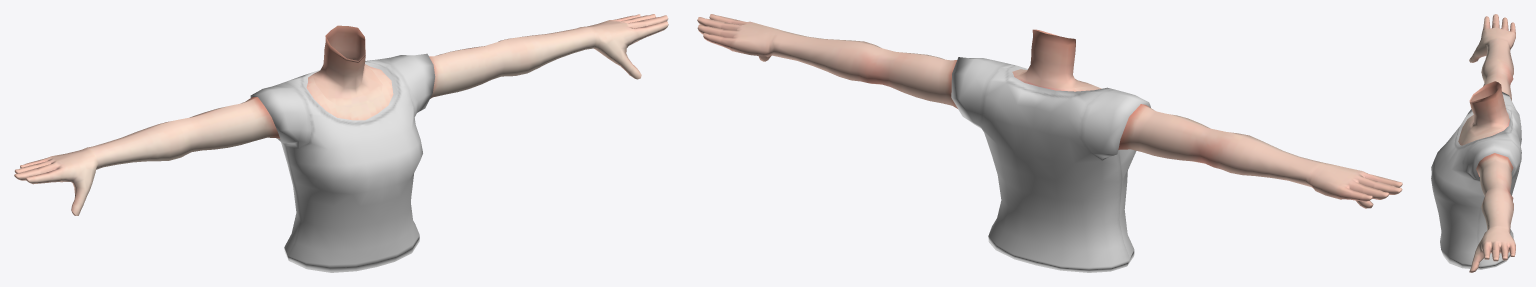
The model's file is tr0790_00_upb01.gltf.
3 renders of one model, left to right at view 1: azimuth 30°, elevation 25°; view 2: azimuth 150°, elevation 25°; view 3: azimuth 270°, elevation 25°, orthographic. The views are drawn at different scales.
Parts seen in each view (by area): view 1: upb01_upperbody_mesh_shape:upperbody01, upb01_upperskin_mesh_shape:upperbody01_skin; view 2: upb01_upperbody_mesh_shape:upperbody01, upb01_upperskin_mesh_shape:upperbody01_skin; view 3: upb01_upperskin_mesh_shape:upperbody01_skin, upb01_upperbody_mesh_shape:upperbody01.
Part boxes in pixels (left/top/right/bottom): upb01_upperbody_mesh_shape:upperbody01: left=250, top=53, right=435, bottom=272; upb01_upperskin_mesh_shape:upperbody01_skin: left=14, top=14, right=668, bottom=215; upb01_upperbody_mesh_shape:upperbody01: left=951, top=57, right=1150, bottom=272; upb01_upperskin_mesh_shape:upperbody01_skin: left=697, top=14, right=1402, bottom=208; upb01_upperskin_mesh_shape:upperbody01_skin: left=1458, top=14, right=1515, bottom=272; upb01_upperbody_mesh_shape:upperbody01: left=1431, top=92, right=1521, bottom=269.
Size of what is drawn, in the model's own units: 1.63 by 0.5077 by 0.2549.
2 materials, 2 textured.
